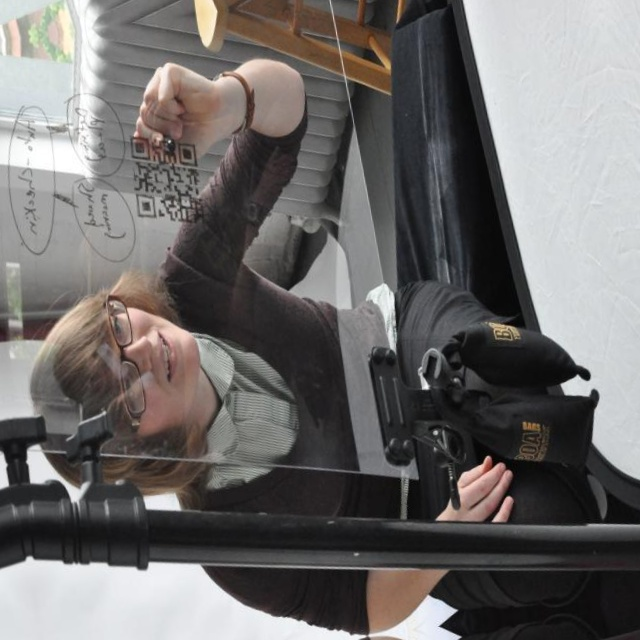qr-code: (127, 128, 205, 232)
